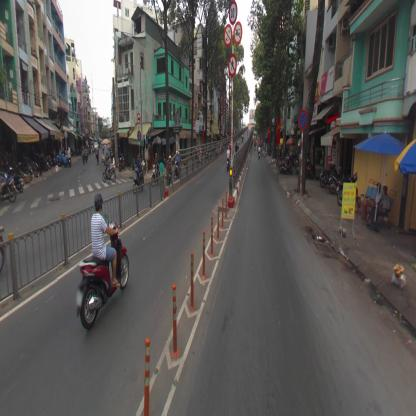Cam con lai: (227, 0, 237, 23), (223, 23, 232, 47), (233, 21, 242, 45), (228, 53, 236, 75), (137, 112, 140, 122)
Cam dung va do: (298, 108, 308, 129), (137, 128, 141, 140)
